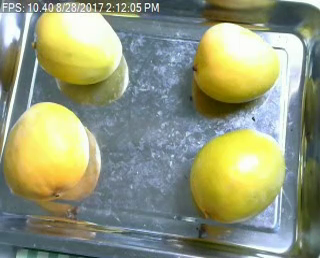Mango: (0, 101, 92, 199), (188, 130, 284, 220), (33, 4, 124, 86), (195, 23, 281, 104)
